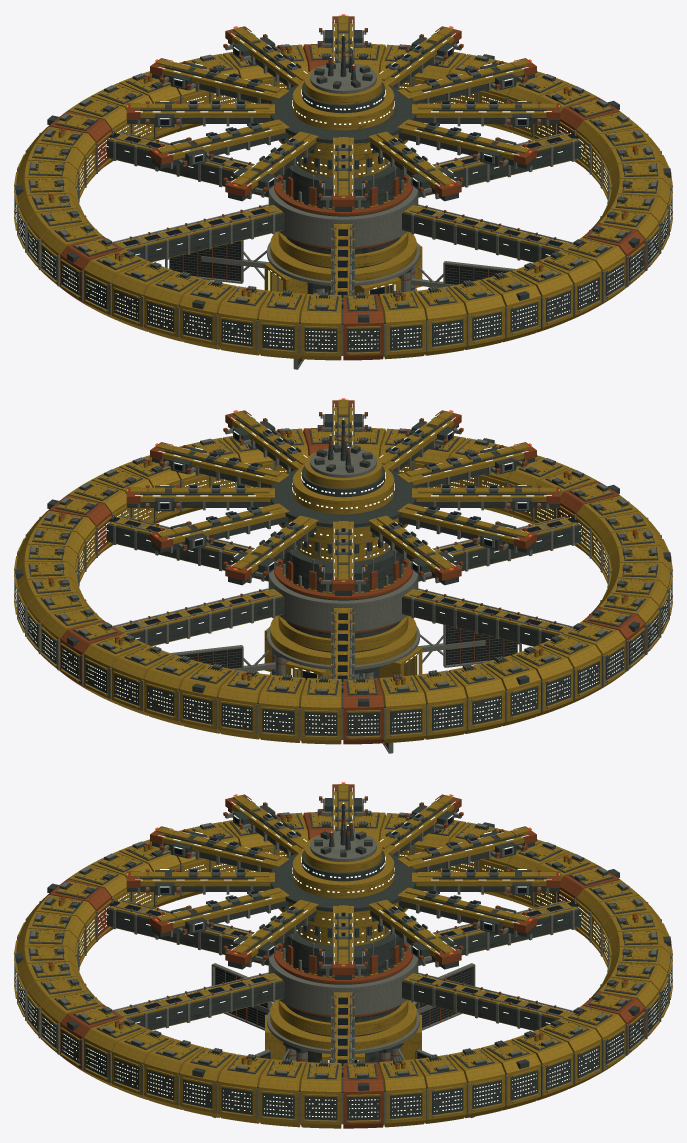
The model's file is cinder_foundry_union.glb.
3 views of the same model, one above another, from view 1: azimuth 30°, elevation 25°; view 2: azimuth 150°, elevation 25°; view 3: azimuth 270°, elevation 25° (orthographic).
Visible parts, largest first — view 1: Habitat_Ceramic_Ivory, Habitat_Frame_Gunmetal, Hub_Ceramic_Ivory, Hub_Frame_Gunmetal, Detail_rotor_Titanium_Edges, Habitat_Titanium_Edges, Hub_Titanium_Edges, Hub_Industrial_Orange, Detail_rotor_Ceramic_Ivory, Habitat_Industrial_Orange, Detail_rotor_Frame_Gunmetal, Habitat_Recess_Black (+8 smaller); view 2: Habitat_Ceramic_Ivory, Habitat_Frame_Gunmetal, Hub_Ceramic_Ivory, Hub_Frame_Gunmetal, Detail_rotor_Titanium_Edges, Habitat_Titanium_Edges, Hub_Titanium_Edges, Hub_Industrial_Orange, Detail_rotor_Ceramic_Ivory, Habitat_Industrial_Orange, Detail_rotor_Frame_Gunmetal, Habitat_Recess_Black (+8 smaller); view 3: Habitat_Ceramic_Ivory, Habitat_Frame_Gunmetal, Hub_Ceramic_Ivory, Hub_Frame_Gunmetal, Detail_rotor_Titanium_Edges, Habitat_Titanium_Edges, Hub_Titanium_Edges, Hub_Industrial_Orange, Detail_rotor_Ceramic_Ivory, Habitat_Industrial_Orange, Detail_rotor_Frame_Gunmetal, Habitat_Recess_Black (+7 smaller).
Boxes of the visible parts, x1,y1,x2,y2 form: Habitat_Ceramic_Ivory: [16, 44, 670, 360]; Habitat_Frame_Gunmetal: [15, 41, 671, 351]; Hub_Ceramic_Ivory: [130, 15, 556, 296]; Hub_Frame_Gunmetal: [127, 22, 559, 294]; Detail_rotor_Titanium_Edges: [14, 42, 672, 355]; Habitat_Titanium_Edges: [15, 44, 671, 353]; Hub_Titanium_Edges: [137, 29, 549, 369]; Hub_Industrial_Orange: [126, 16, 560, 360]; Detail_rotor_Ceramic_Ivory: [14, 49, 672, 354]; Habitat_Industrial_Orange: [43, 44, 644, 360]; Detail_rotor_Frame_Gunmetal: [29, 42, 657, 309]; Habitat_Recess_Black: [32, 45, 654, 308]; Habitat_Ceramic_Ivory: [16, 428, 670, 744]; Habitat_Frame_Gunmetal: [15, 425, 671, 735]; Hub_Ceramic_Ivory: [130, 399, 556, 678]; Hub_Frame_Gunmetal: [127, 406, 559, 680]; Detail_rotor_Titanium_Edges: [14, 426, 672, 739]; Habitat_Titanium_Edges: [15, 428, 671, 737]; Hub_Titanium_Edges: [137, 413, 549, 753]; Hub_Industrial_Orange: [126, 400, 560, 744]; Detail_rotor_Ceramic_Ivory: [14, 433, 672, 738]; Habitat_Industrial_Orange: [43, 428, 644, 744]; Detail_rotor_Frame_Gunmetal: [29, 426, 657, 693]; Habitat_Recess_Black: [32, 429, 654, 692]; Habitat_Ceramic_Ivory: [16, 812, 670, 1128]; Habitat_Frame_Gunmetal: [15, 809, 671, 1120]; Hub_Ceramic_Ivory: [130, 784, 556, 1060]; Hub_Frame_Gunmetal: [127, 789, 559, 1064]; Detail_rotor_Titanium_Edges: [14, 810, 672, 1124]; Habitat_Titanium_Edges: [15, 813, 671, 1121]; Hub_Titanium_Edges: [137, 797, 549, 1117]; Hub_Industrial_Orange: [126, 784, 560, 1060]; Detail_rotor_Ceramic_Ivory: [14, 817, 672, 1122]; Habitat_Industrial_Orange: [42, 812, 644, 1128]; Detail_rotor_Frame_Gunmetal: [29, 811, 657, 1077]; Habitat_Recess_Black: [32, 814, 654, 1076].
Bounding box in the file's own units: 2015 × 951 × 2015.
Materials: 9 (5 with a texture image).
